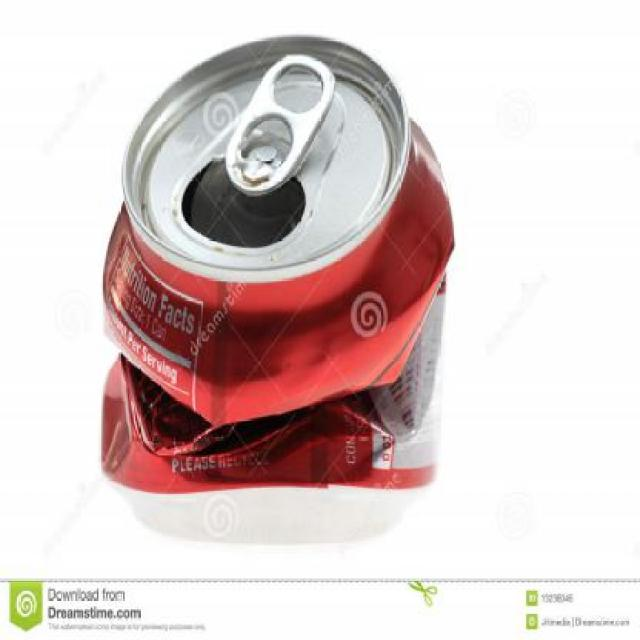non-organic waste: (69, 27, 488, 516)
